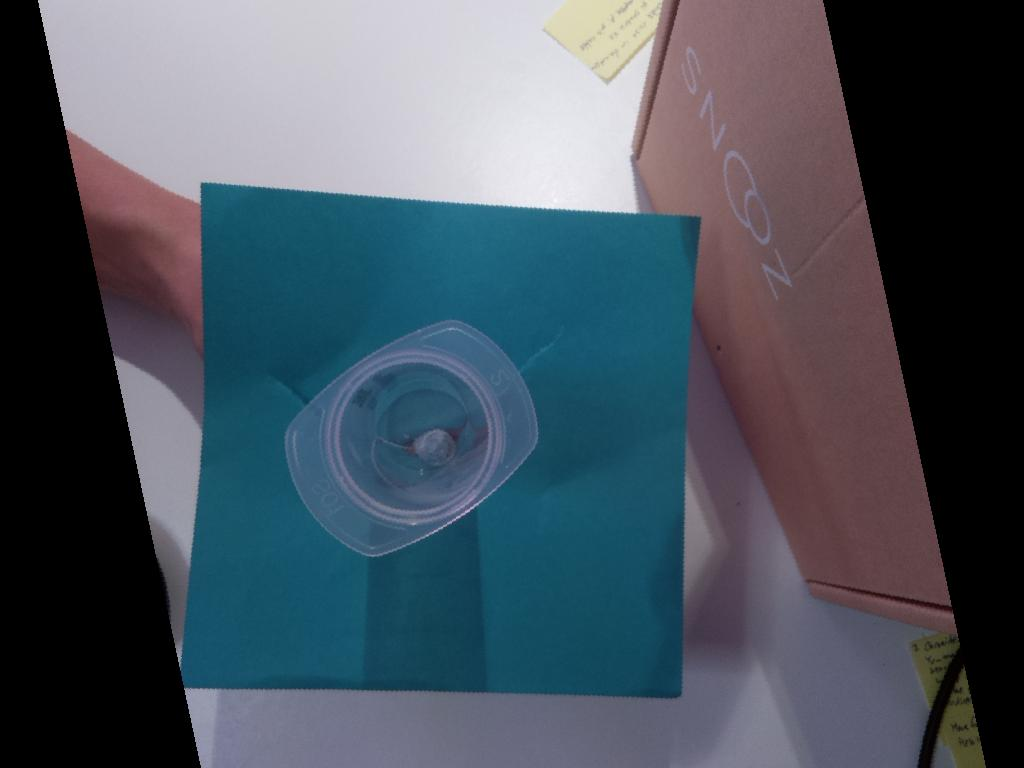clean: (284, 320, 539, 556)
